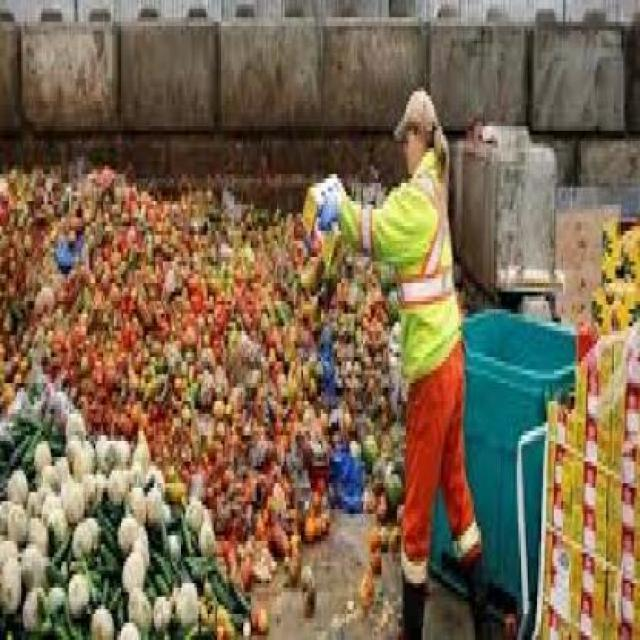garbage: (1, 171, 284, 637), (565, 414, 638, 636), (288, 257, 361, 474), (580, 178, 638, 430)
